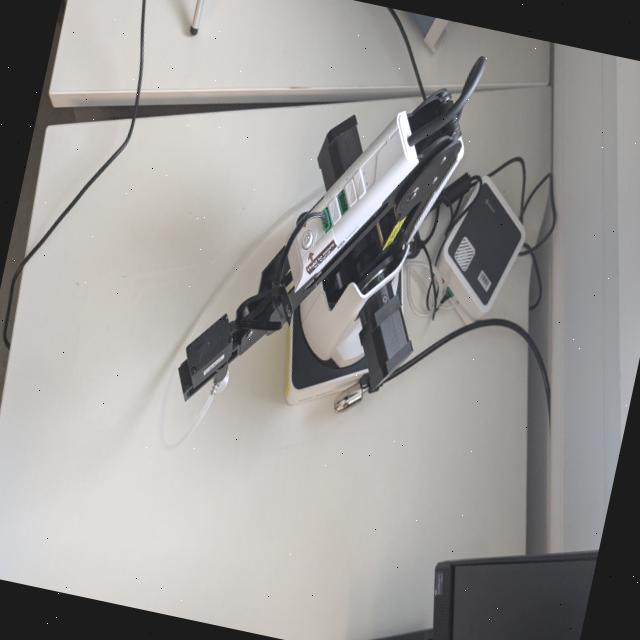Robot-end-effector-HF8z: (166, 301, 244, 426)
